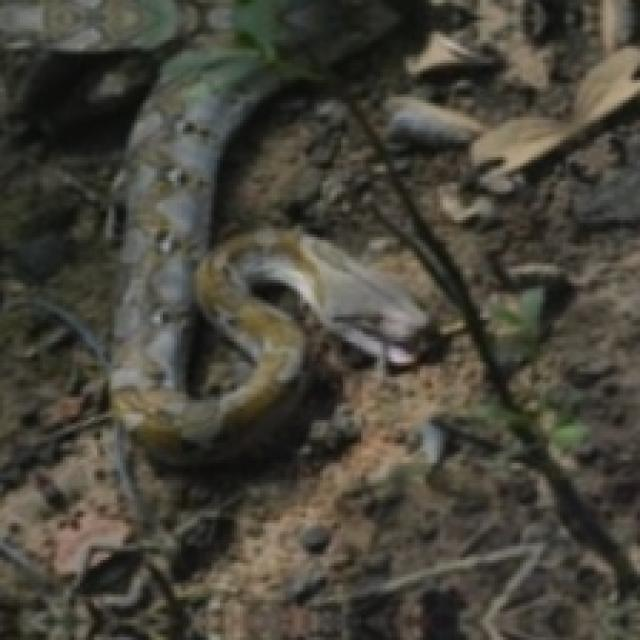reticulated python: (111, 0, 426, 463)
